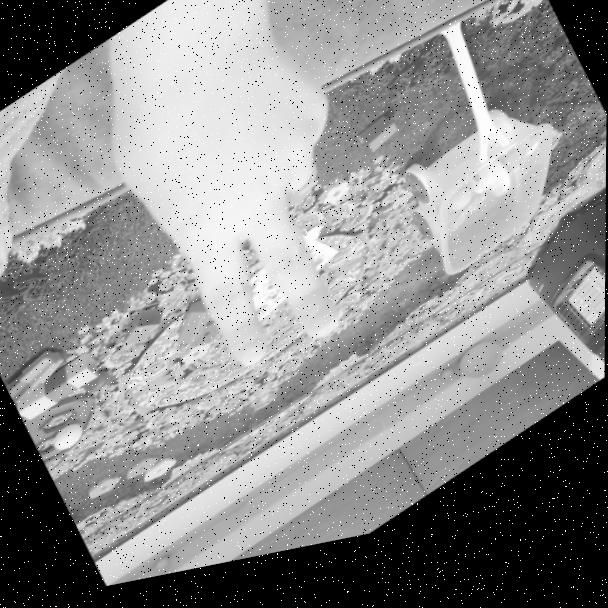two: (62, 0, 420, 443)
